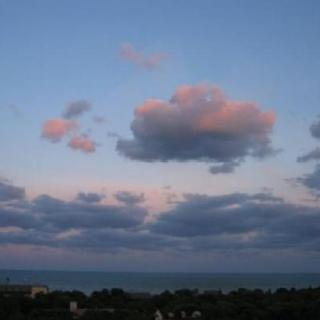Cumulus: (0, 41, 320, 260)
